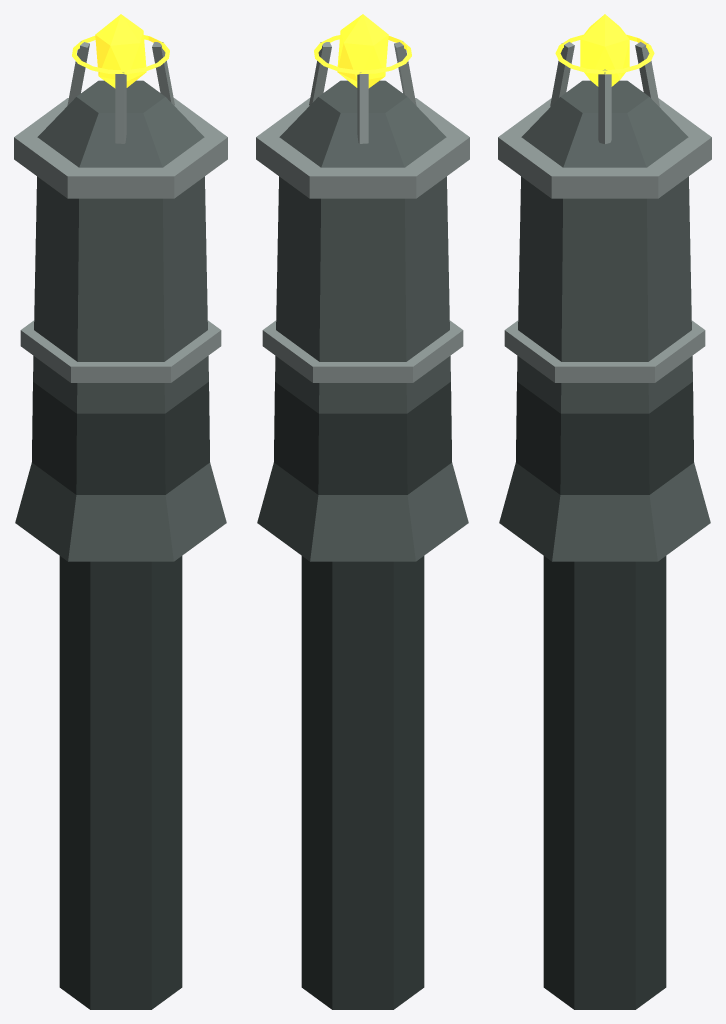
File: torre-suporte.glb
3 renders of one model, left to right at view 1: azimuth 30°, elevation 25°; view 2: azimuth 150°, elevation 25°; view 3: azimuth 270°, elevation 25°, orthographic.
Visible parts, largest first — view 1: torre_suporte, suporte_nucleo; view 2: torre_suporte, suporte_nucleo; view 3: torre_suporte, suporte_nucleo.
Boxes of the visible parts, x1,y1,x2,y2 form: torre_suporte: (14, 41, 227, 1009); suporte_nucleo: (72, 14, 169, 88); torre_suporte: (256, 41, 469, 1009); suporte_nucleo: (314, 14, 411, 88); torre_suporte: (498, 42, 711, 1009); suporte_nucleo: (555, 14, 654, 86).
Size of the model in its own units: 16.63 by 96.4 by 19.2.
